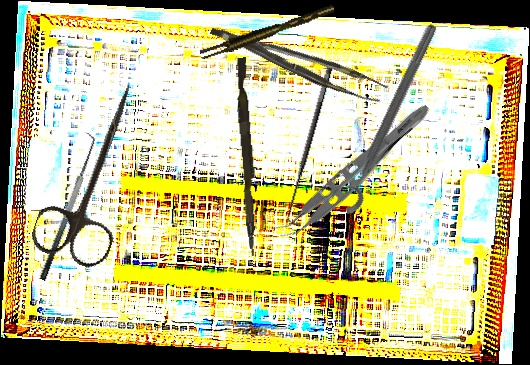Fixation Ring: (324, 15, 444, 219)
Hook Surgical: (279, 60, 347, 229)
Iris Scissors: (27, 70, 163, 273)
Pusher: (231, 57, 264, 257)
Spatula Surgical: (27, 131, 104, 282)
Tissue Forceps: (271, 90, 434, 250), (209, 6, 389, 114), (197, 4, 338, 61)
